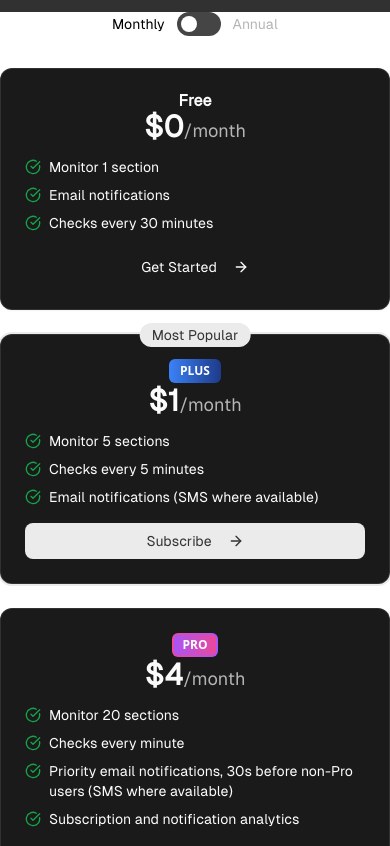
Scenario: PricingTiers › Paid Tiers - Authenticated User › disables button during loading
This screenshot has width=390, height=846.
Click the button "Subscribe" below "Checks every 5 minutes" at coordinates (195, 541), box x1=25 y1=523 x2=365 y2=559
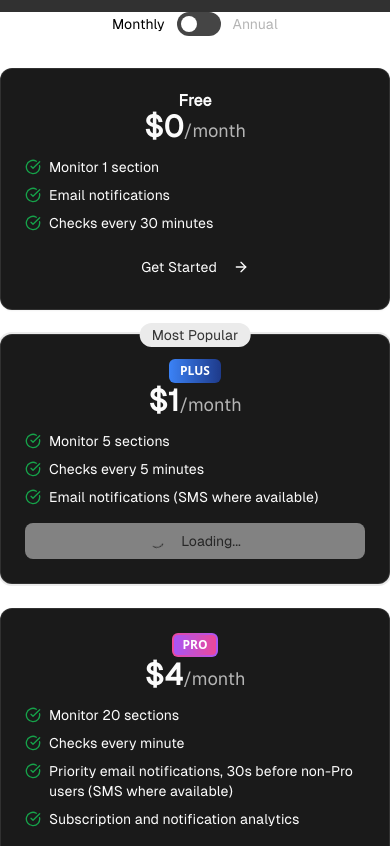
Expected: the button "Loading..." is disabled, x1=25 y1=523 x2=365 y2=559
